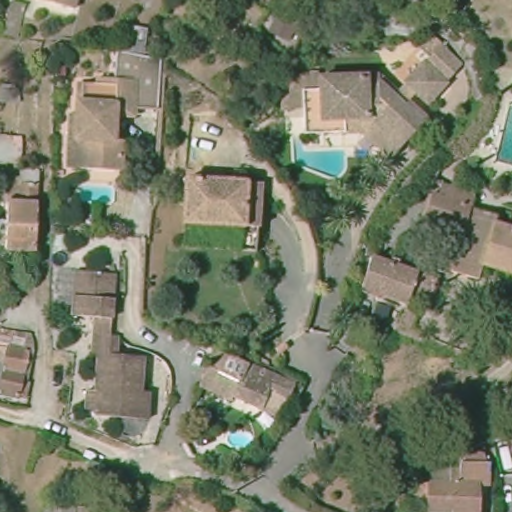pool: (284, 117, 372, 186), (68, 176, 125, 213), (220, 423, 262, 453), (498, 94, 512, 171)
